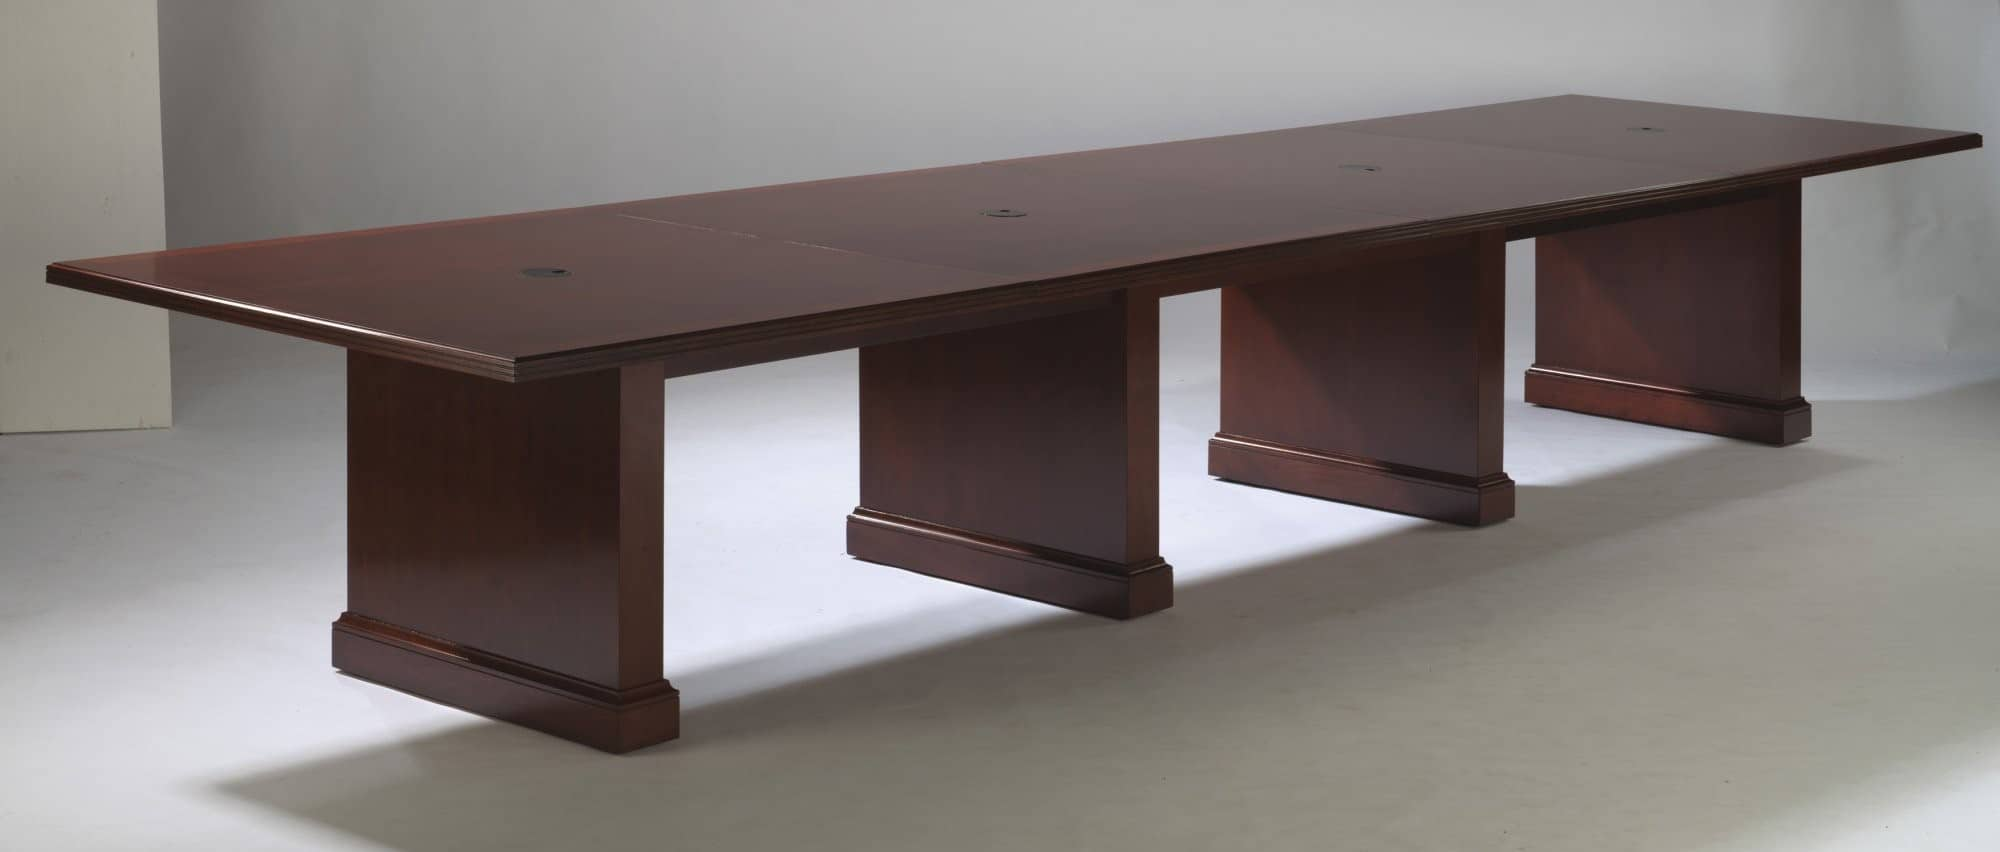conference_table: (45, 94, 1981, 754)
